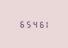five: (24, 19, 29, 27)
four: (30, 19, 35, 28)
one: (42, 20, 47, 28)
six: (18, 19, 23, 27), (36, 20, 41, 28)
